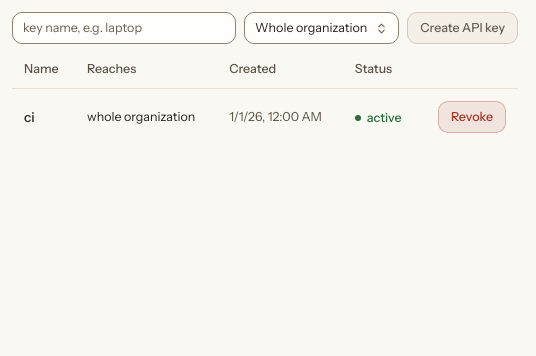
Test: creating an API key › drops the token for good once it is dismissed
Type "laptop" into the field labelled "key name" at (124, 28), box [12, 12, 236, 44]
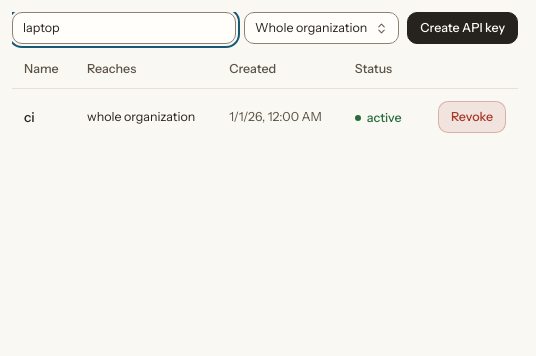
Click the button "Create API key" at (463, 28), box [407, 12, 518, 44]
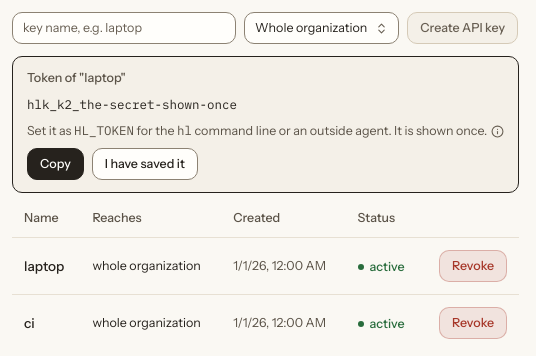
Click the button "I have saved it" at (145, 164), box [92, 148, 198, 180]
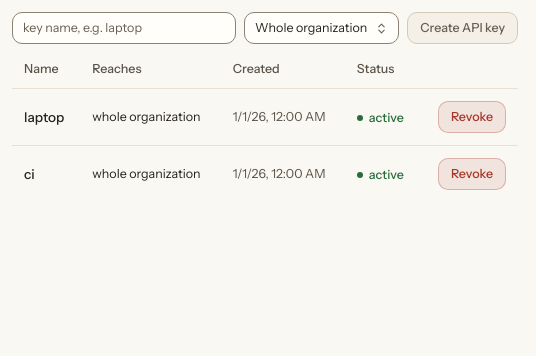
Expected: the cell "laptop" is shown, [12, 88, 80, 146]
Expected: the text with test id "secret" is gone
Expected: the text "hlk_k2_the-secret-shown-once" is gone
